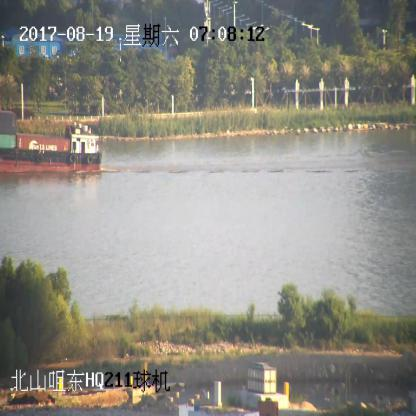Container Ship: (0, 108, 103, 176)
